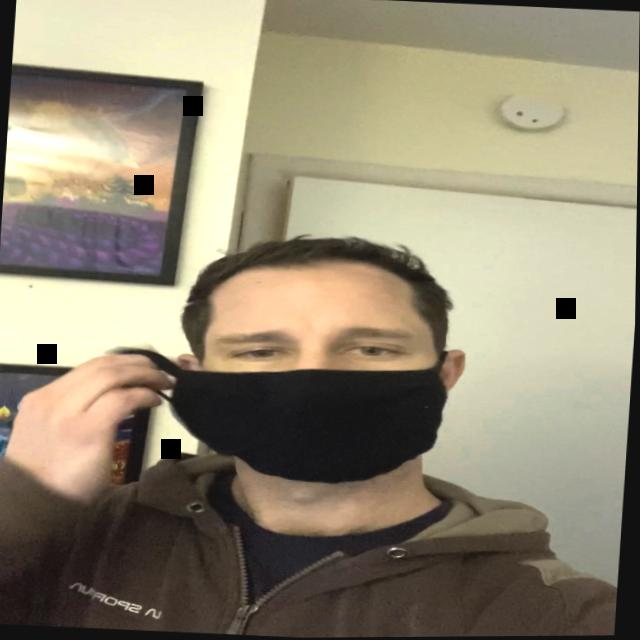Mask: (149, 239, 473, 518)
